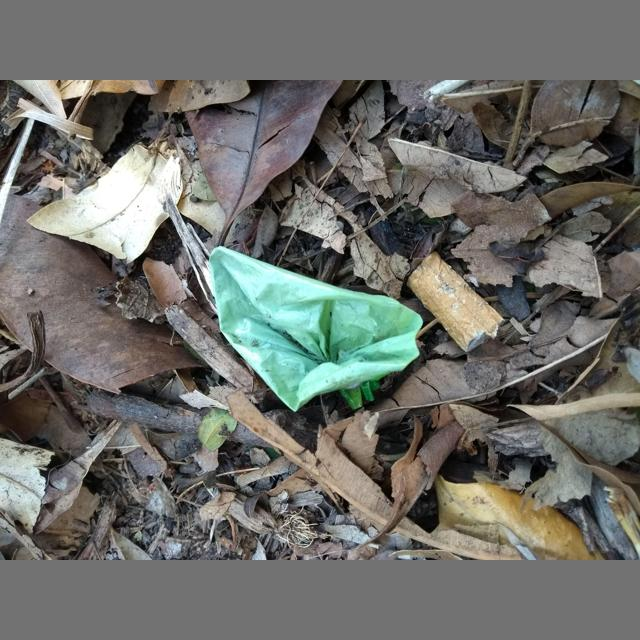litter: (209, 246, 423, 412), (407, 251, 504, 352)
